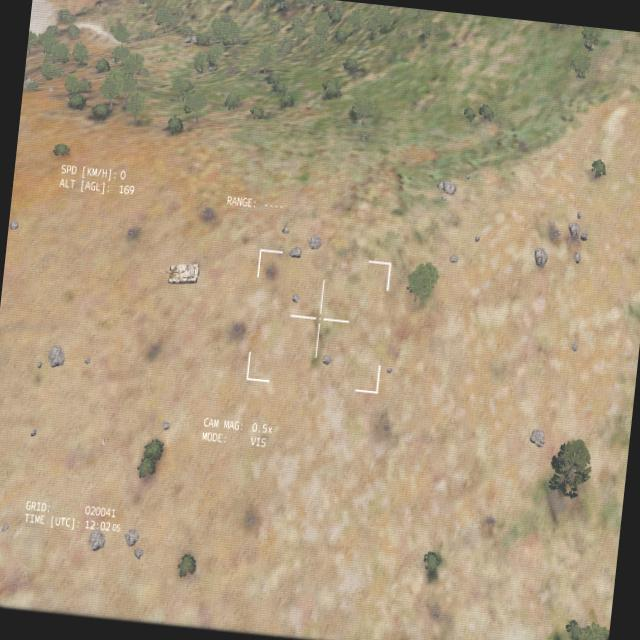tank: (153, 258, 200, 287)
